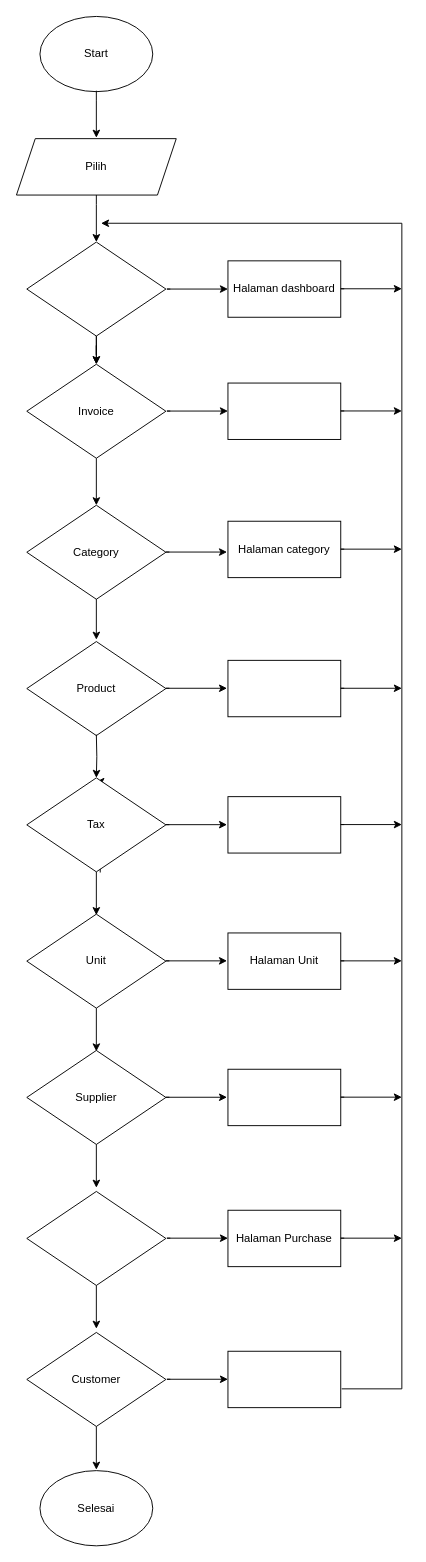
Image size: 426x1562. Some labels were removed from this diagram. Here are the shapes that lost their labels. From the top down, the centre of each, then its label:
the point at 96,288: Dashboard
the point at 284,410: Halaman Invoice
the point at 284,688: Halaman Product
the point at 284,824: Halaman Tax
the point at 284,1097: Halaman Supplier
the point at 96,1238: Purchase
the point at 284,1379: Halaman Customer
